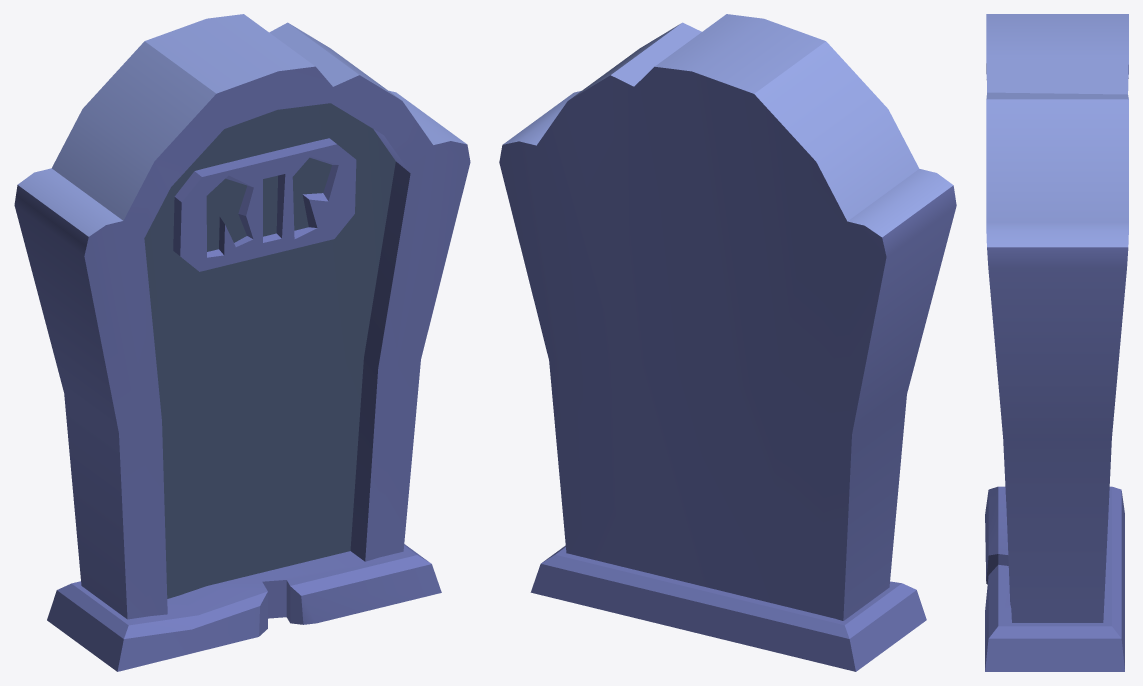
Rendered from lapide_02.fbx.
The picture shows the model from 3 angles, left to right: view 1: azimuth 30°, elevation 25°; view 2: azimuth 150°, elevation 25°; view 3: azimuth 270°, elevation 25°; orthographic projection.
Parts seen in each view (by area): view 1: lapide_2; view 2: lapide_2; view 3: lapide_2.
Part boxes in pixels (left/top/right/bottom): lapide_2: left=14, top=14, right=470, bottom=671; lapide_2: left=499, top=14, right=956, bottom=671; lapide_2: left=985, top=14, right=1128, bottom=671.
Size of the model in its own units: 254 by 353 by 82.7.
